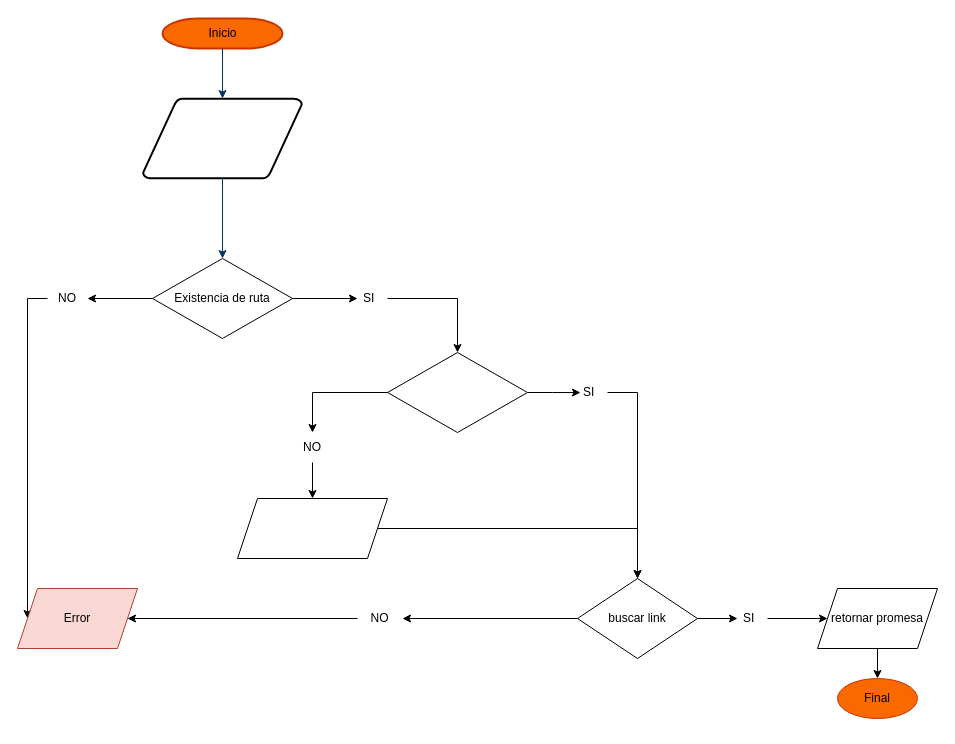
This 955x744 diagram has some shape labels left out. Here are the shapes that lost their labels. From the top down, the centre of each, then its label:
the point at 222,138: Función / Promesa
the point at 457,392: Absoluta
the point at 312,528: Transformar absoluta
